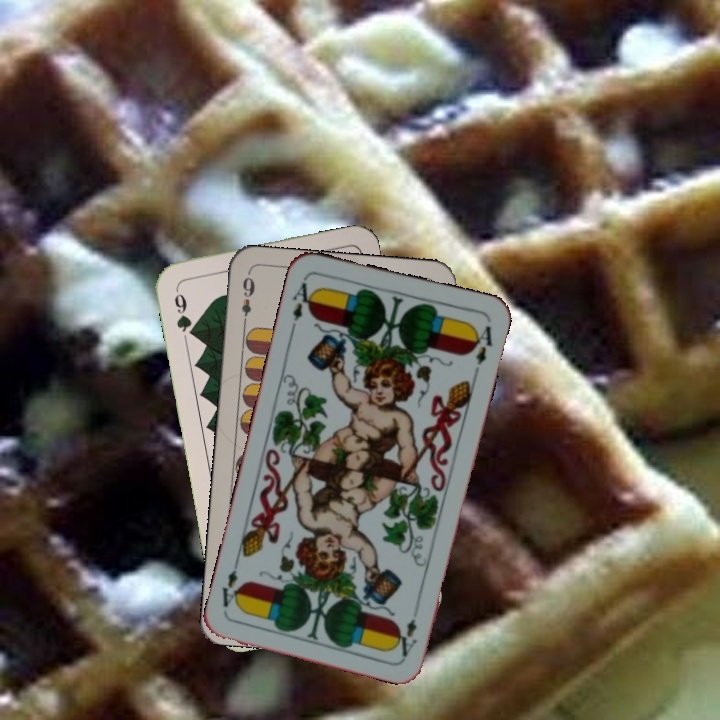E9: (237, 273, 257, 329)
EA: (287, 275, 319, 333), (396, 614, 420, 659)
G9: (170, 282, 198, 339)
